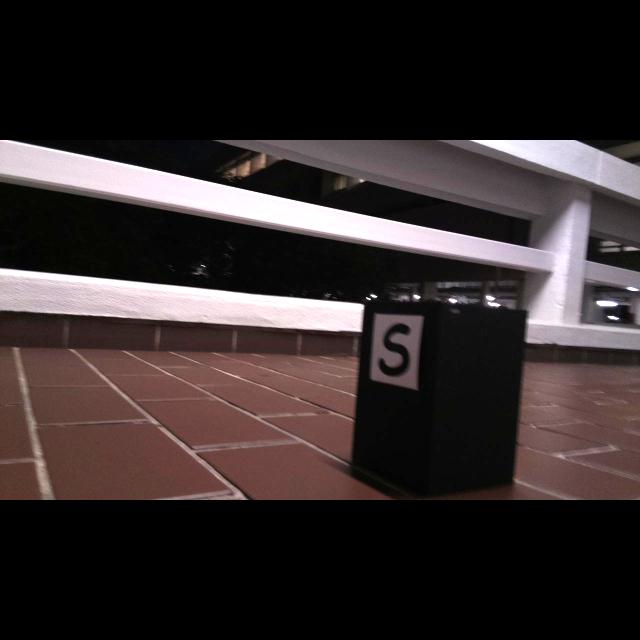S: (379, 323, 410, 377)
